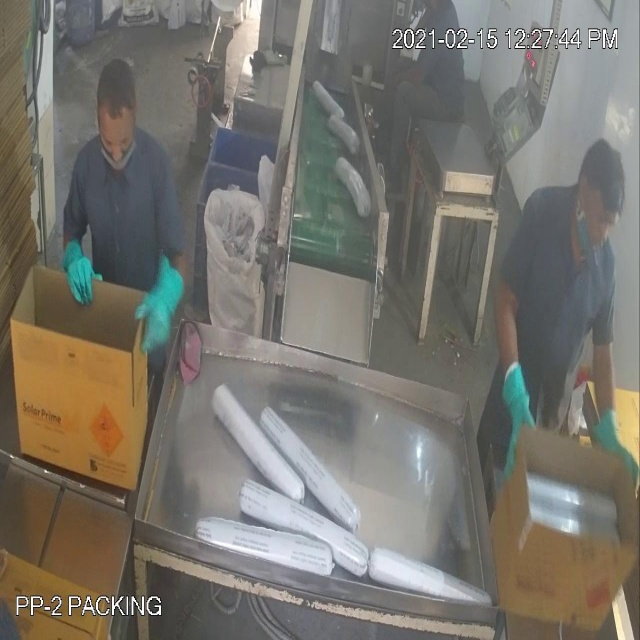Guantes: (134, 224, 194, 371), (481, 332, 538, 484), (55, 211, 112, 326), (586, 385, 640, 497)
